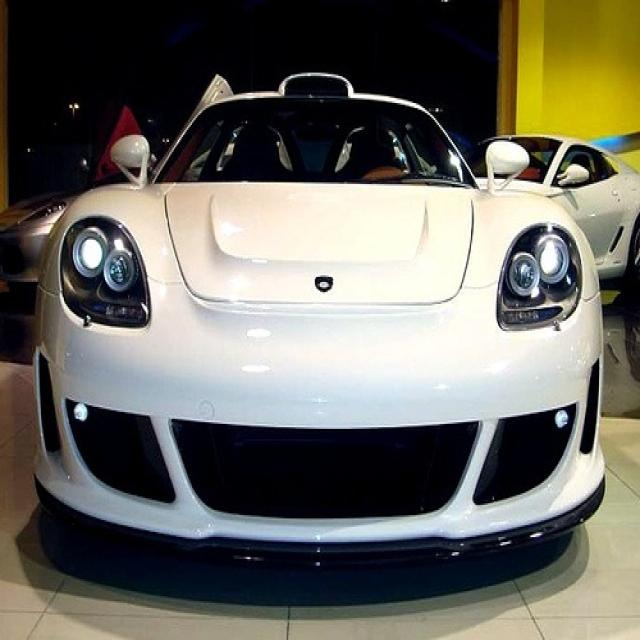car: (29, 71, 607, 564), (462, 133, 639, 284), (0, 187, 76, 282)
